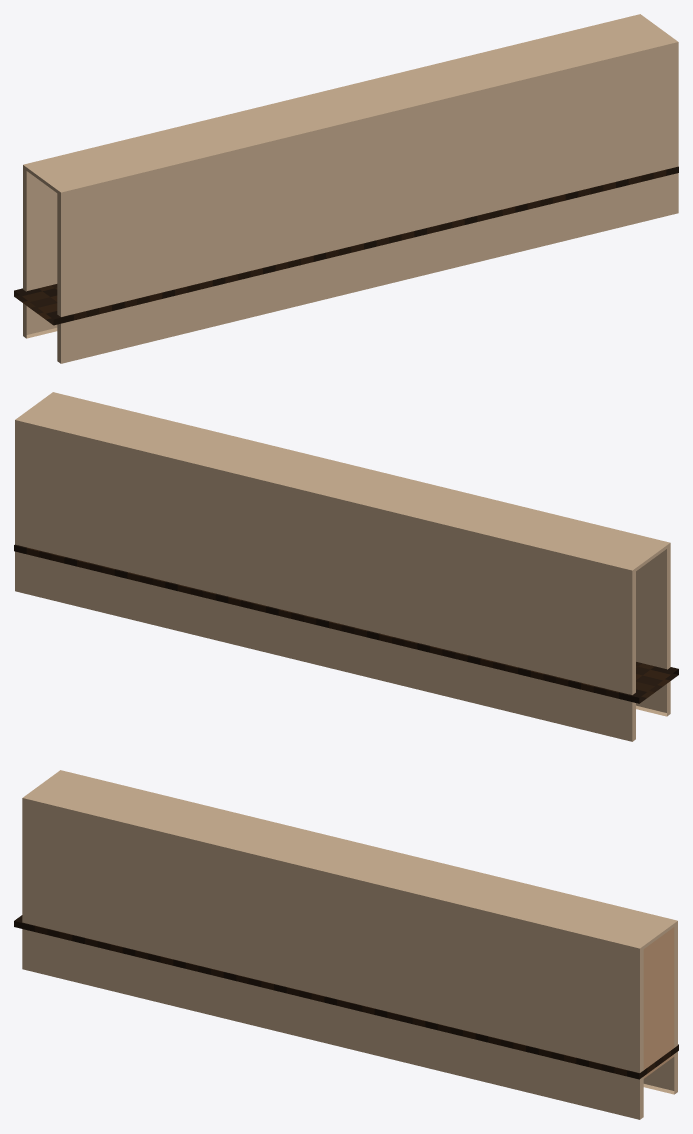
The model's file is longtransition.fbx.
The picture shows the model from 3 angles, top to bottom: view 1: azimuth 30°, elevation 25°; view 2: azimuth 150°, elevation 25°; view 3: azimuth 330°, elevation 25°; orthographic projection.
Parts seen in each view (by area): view 1: LoongTrans; view 2: LoongTrans; view 3: LoongTrans.
Boxes of the visible parts, x1,y1,x2,y2 form: LoongTrans: (14, 14, 678, 363); LoongTrans: (14, 392, 678, 741); LoongTrans: (14, 770, 678, 1119).
Size of the model in its own units: 787 by 206 by 86.17.
1 material, 1 textured.
